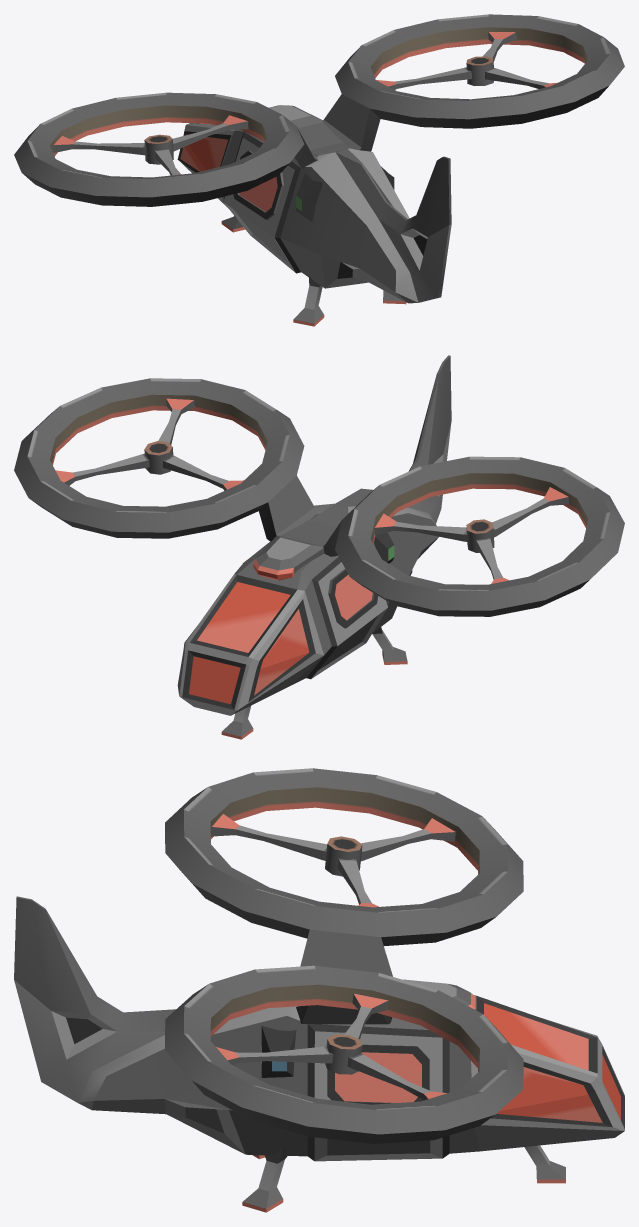
File: Small_Aircraft.fbx
3 views of the same model, one above another, from view 1: azimuth 30°, elevation 25°; view 2: azimuth 150°, elevation 25°; view 3: azimuth 270°, elevation 25° (orthographic). The views are drawn at different scales.
Parts seen in each view (by area): view 1: Small_Aircraft; view 2: Small_Aircraft; view 3: Small_Aircraft.
Part boxes in pixels (x1=…): Small_Aircraft: x1=14, y1=14, x2=624, y2=326; Small_Aircraft: x1=14, y1=355, x2=624, y2=739; Small_Aircraft: x1=14, y1=768, x2=624, y2=1212.
Bounding box in the file's own units: 961 × 359 × 710.
